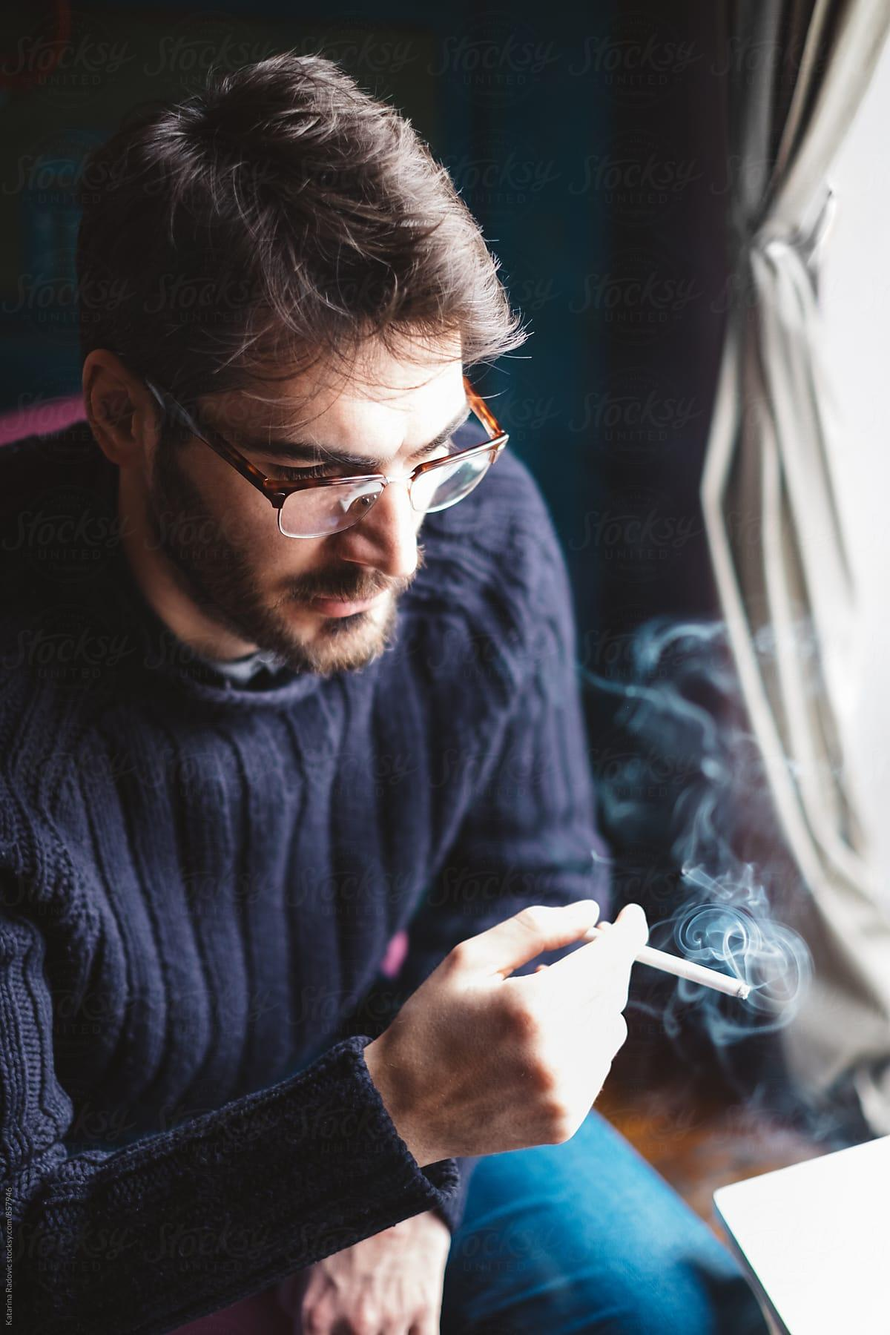cigarette: (636, 946, 751, 998)
